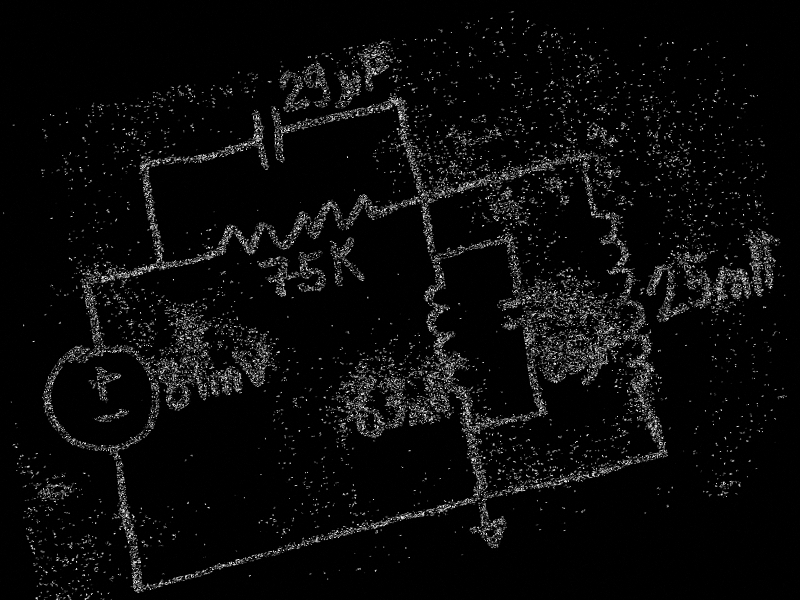2: (642, 257, 691, 329), (273, 66, 312, 118)
3: (378, 376, 414, 433)
5: (677, 247, 716, 315), (294, 246, 331, 300), (563, 332, 589, 376)
6: (347, 371, 388, 444)
7: (252, 249, 302, 310)
8: (155, 355, 195, 420), (536, 330, 570, 387)
9: (301, 56, 338, 112)
F: (358, 46, 394, 94), (595, 325, 621, 369)
H: (745, 230, 777, 298), (426, 384, 453, 424)
V: (238, 340, 279, 390)
k: (324, 230, 369, 293)
m: (709, 260, 755, 311), (192, 361, 246, 404), (405, 401, 435, 428)
u: (334, 66, 367, 109), (583, 342, 605, 383)
